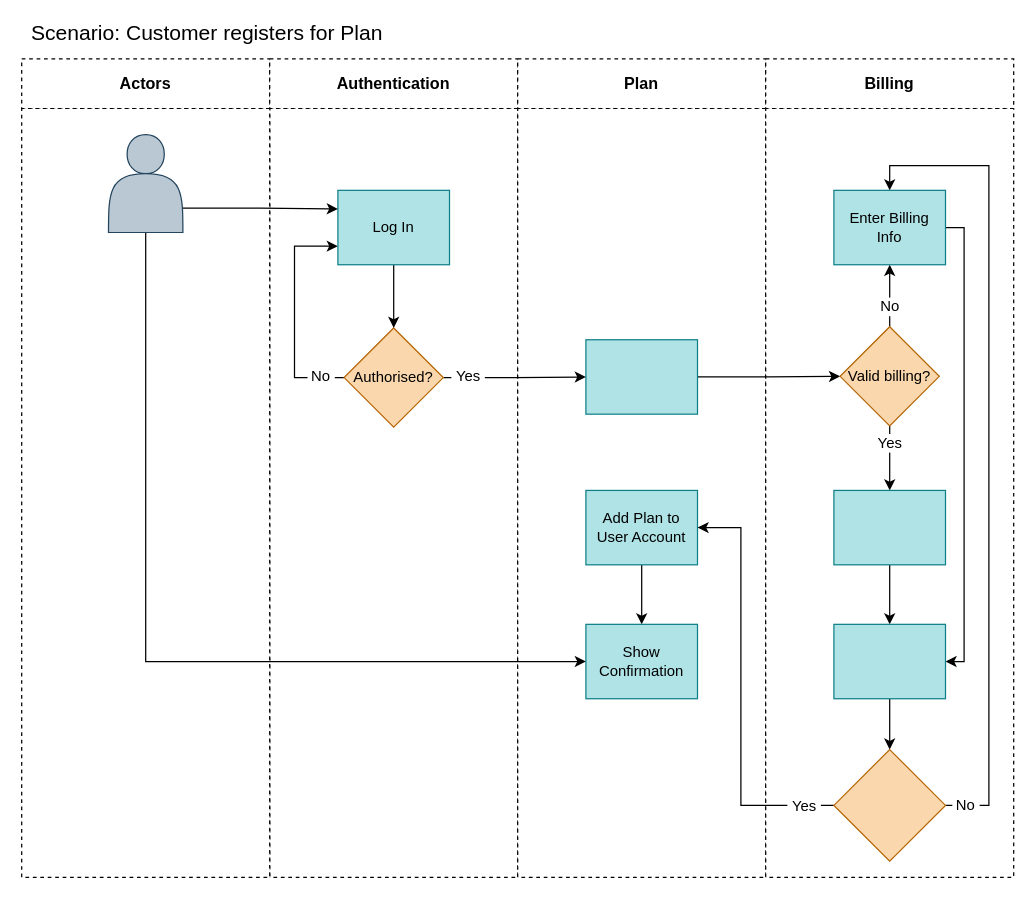
This 1035x899 diagram has some shape labels left out. Here are the shapes that lost their labels. From the top down, the box of each, then its label:
(107, 133, 183, 232): Customer
(585, 339, 698, 414): Select Plan
(833, 489, 946, 565): Confirm Billing Info to use
(833, 623, 946, 699): Bill Customer
(833, 748, 946, 861): Transaction successful?
